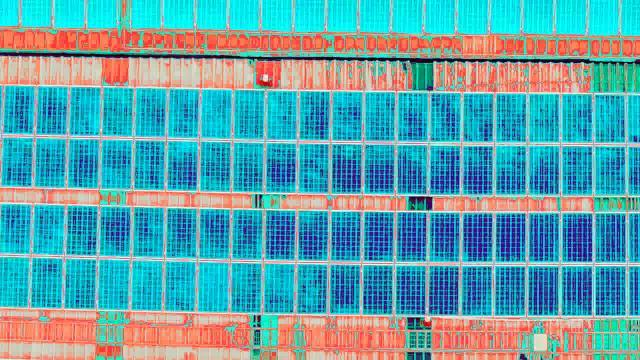dirty: (528, 92, 559, 142), (561, 94, 592, 144), (594, 95, 625, 145), (70, 87, 101, 136), (102, 88, 133, 137), (135, 88, 166, 137), (168, 90, 199, 139), (199, 89, 230, 138), (233, 89, 264, 138), (267, 90, 298, 139), (66, 259, 97, 308), (99, 259, 130, 308), (131, 260, 162, 309), (165, 260, 196, 309), (199, 261, 230, 310), (231, 263, 262, 312), (264, 263, 295, 312), (32, 257, 62, 306), (33, 205, 63, 254), (1, 256, 30, 305)
semi: (3, 85, 34, 135), (36, 86, 67, 136), (298, 91, 329, 141), (330, 91, 361, 141), (363, 91, 394, 141), (396, 92, 427, 142), (430, 91, 461, 141), (464, 92, 495, 142), (494, 93, 525, 143), (1, 138, 32, 185), (35, 137, 66, 184), (67, 140, 98, 187), (101, 140, 132, 187), (133, 140, 164, 187), (166, 142, 197, 189), (201, 141, 231, 189), (233, 143, 263, 191), (266, 144, 296, 192), (301, 144, 331, 192), (330, 144, 360, 192), (362, 144, 392, 192), (397, 144, 427, 192), (429, 144, 459, 192), (461, 144, 491, 192), (495, 146, 525, 194), (528, 145, 558, 193), (561, 146, 591, 194), (594, 147, 624, 195), (68, 207, 98, 255), (100, 207, 130, 255), (134, 208, 164, 256), (166, 209, 196, 257), (199, 210, 229, 258), (232, 211, 262, 259), (264, 211, 294, 259), (298, 212, 328, 260), (331, 213, 361, 261), (363, 212, 393, 260), (396, 213, 426, 261), (430, 213, 460, 261), (462, 214, 492, 262), (497, 213, 527, 261), (529, 213, 559, 261), (560, 214, 590, 262), (596, 215, 626, 263), (594, 267, 624, 315), (562, 266, 592, 314), (528, 266, 558, 314), (496, 266, 526, 314), (462, 264, 492, 312), (428, 265, 458, 313), (397, 265, 427, 313), (362, 266, 392, 314), (330, 265, 360, 313), (299, 262, 329, 310), (1, 203, 30, 251)
